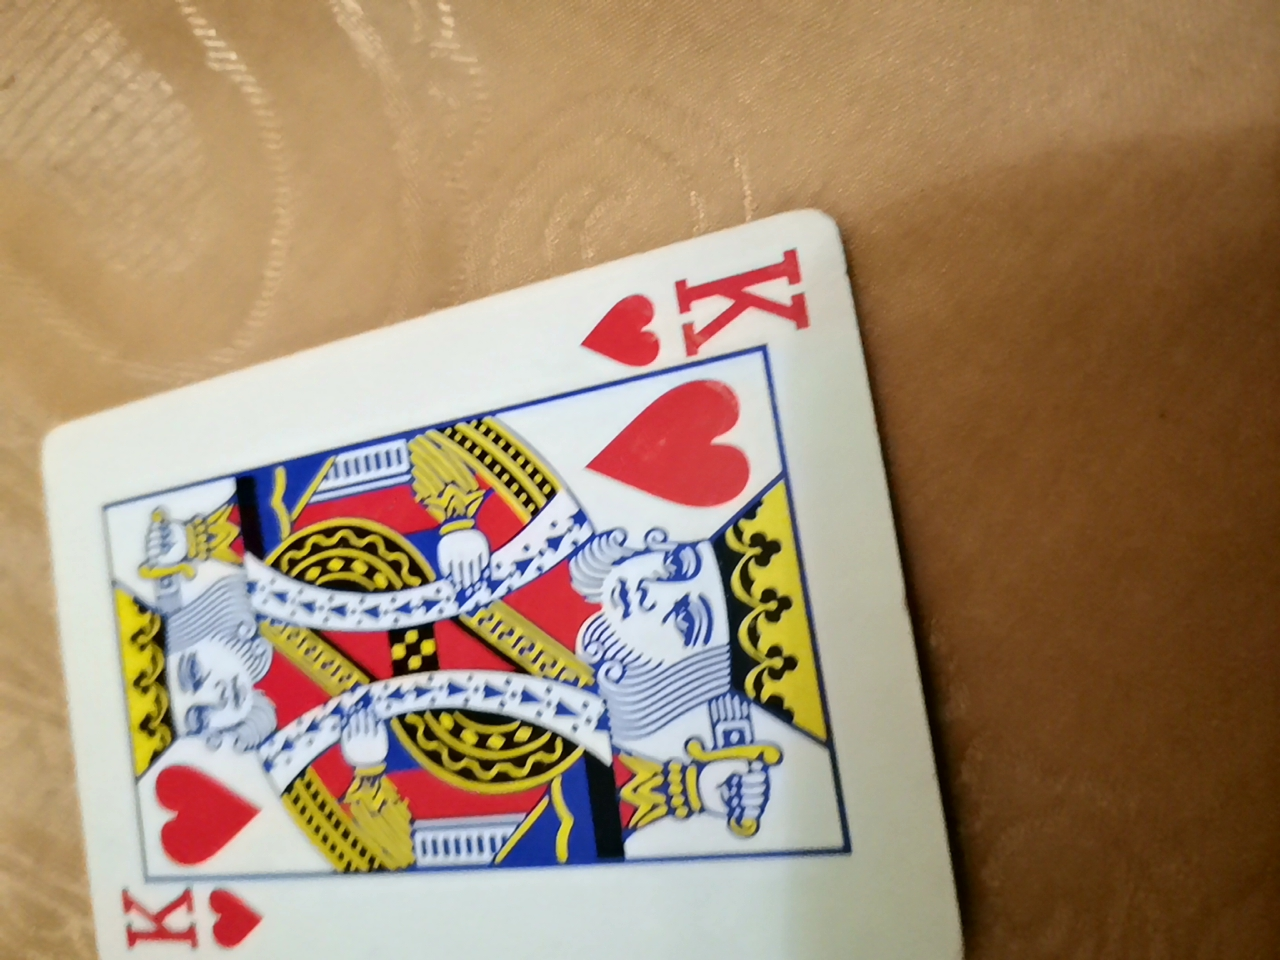hx k: (86, 199, 953, 948)
